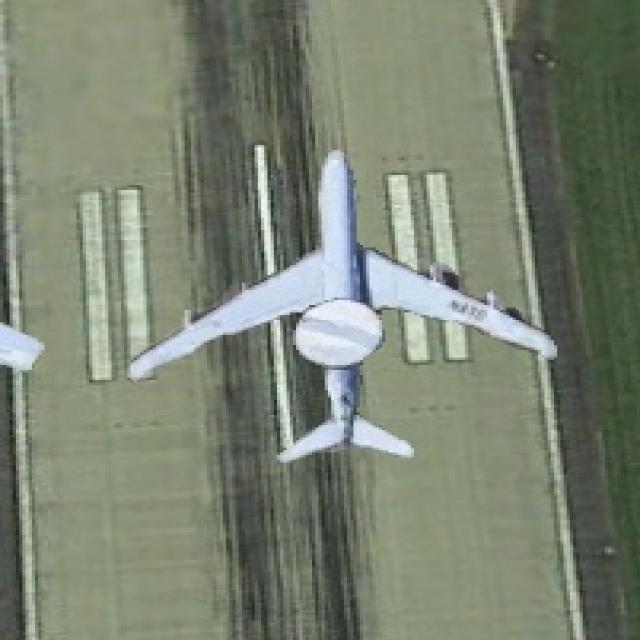E-3_TopDown: (124, 142, 557, 462)
